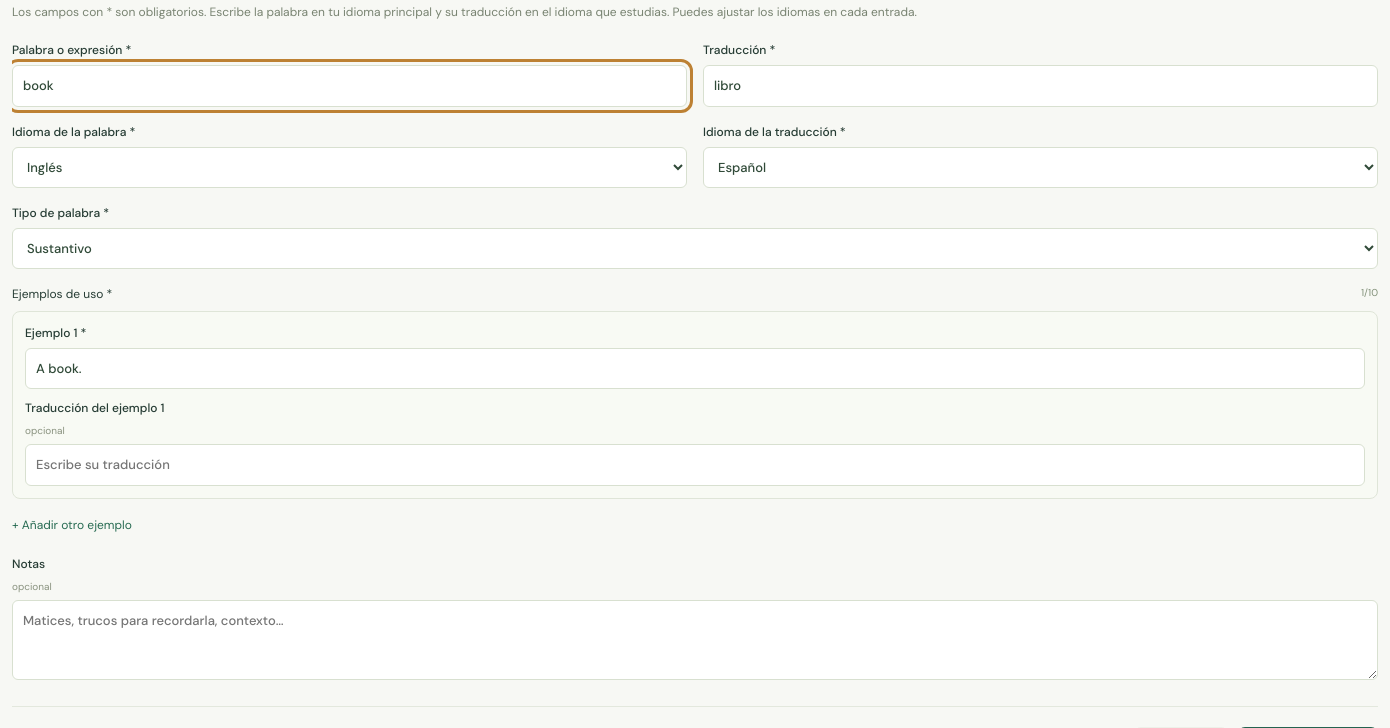
Test case: Formulario de vocabulario › rechaza idiomas iguales y muestra los fallos del servidor
Select "Inglés" in the dropdown labelled "Idioma de la traducción *" at point(1040, 167), box x1=703 y1=146 x2=1378 y2=188
(page scrolled)
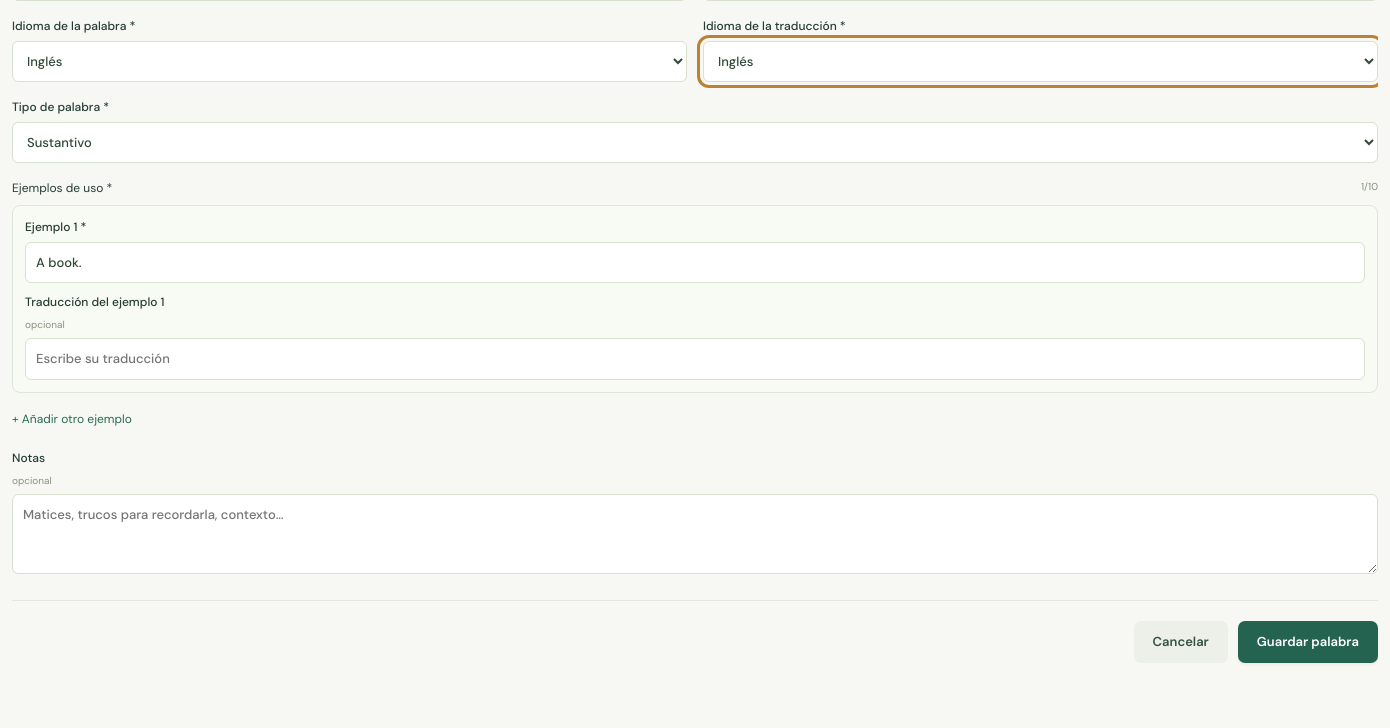
Click the button "Guardar palabra" at point(1308, 642), box x1=1238 y1=621 x2=1378 y2=662
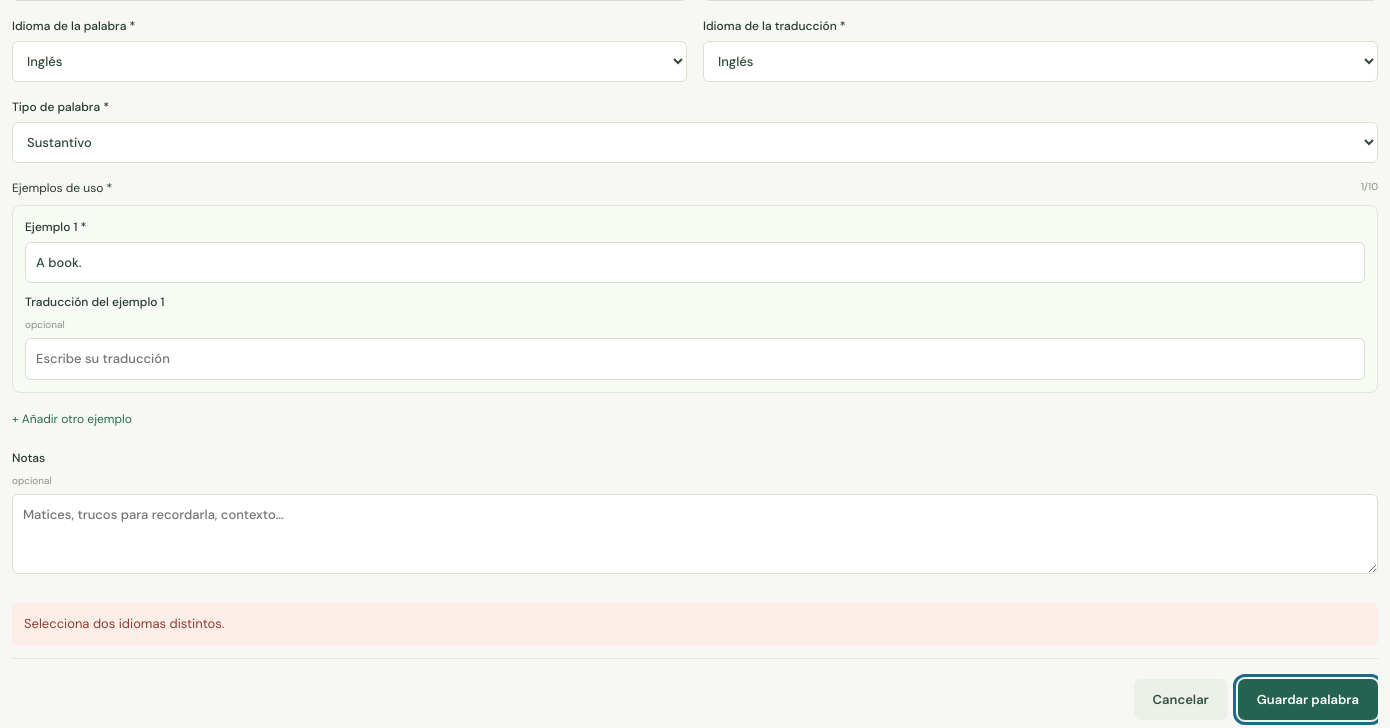
Expected: the message reads "Selecciona dos idiomas distintos.", x1=24 y1=615 x2=224 y2=632
Select "Español" in the dropdown labelled "Idioma de la traducción *" at point(1040, 61), box x1=703 y1=40 x2=1378 y2=82
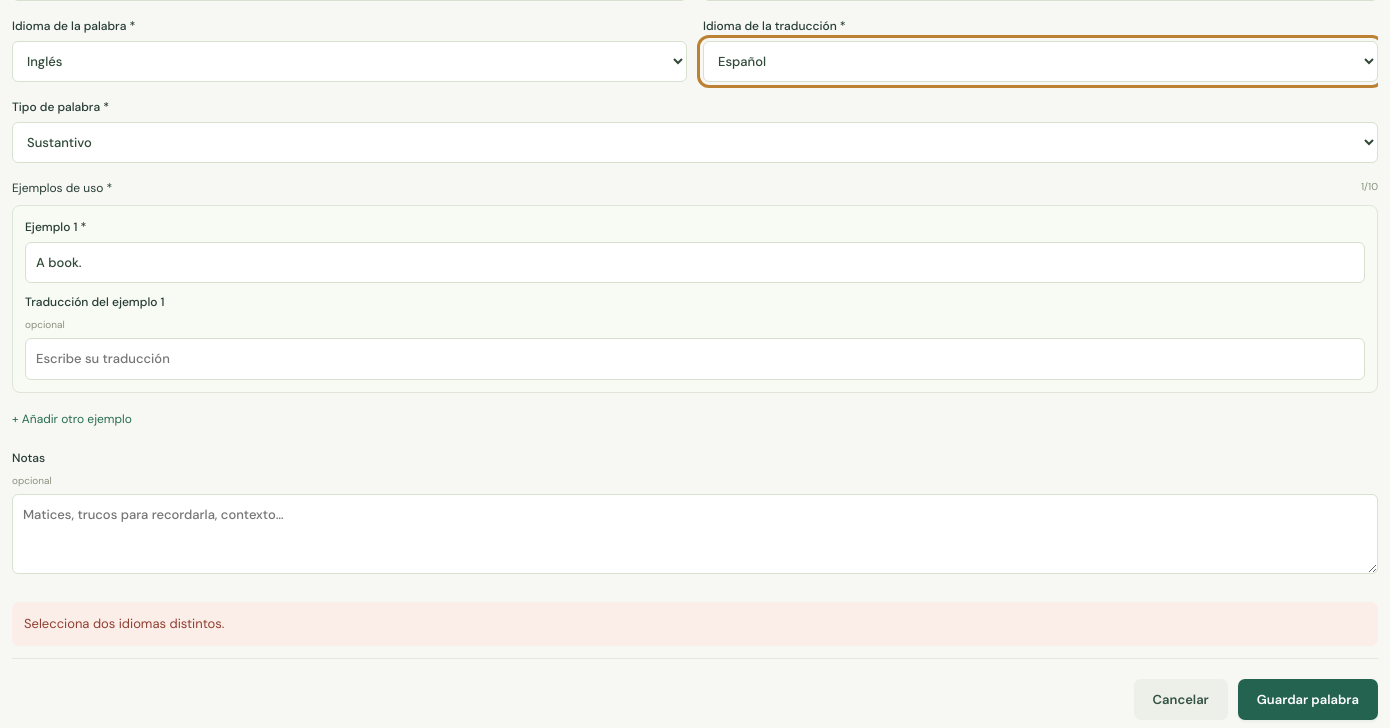
Click the button "Guardar palabra" at point(1308, 699), box x1=1238 y1=678 x2=1378 y2=720
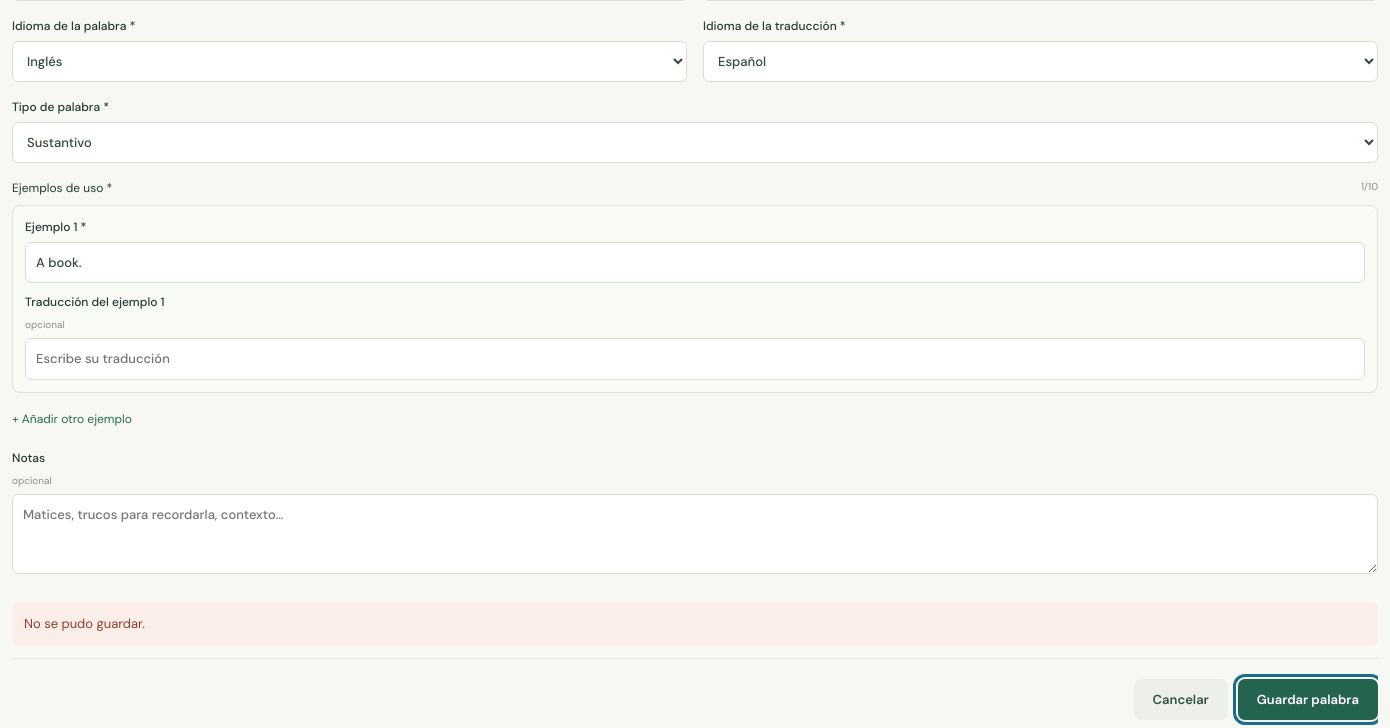
Expected: the message reads "No se pudo guardar.", x1=24 y1=615 x2=145 y2=632
